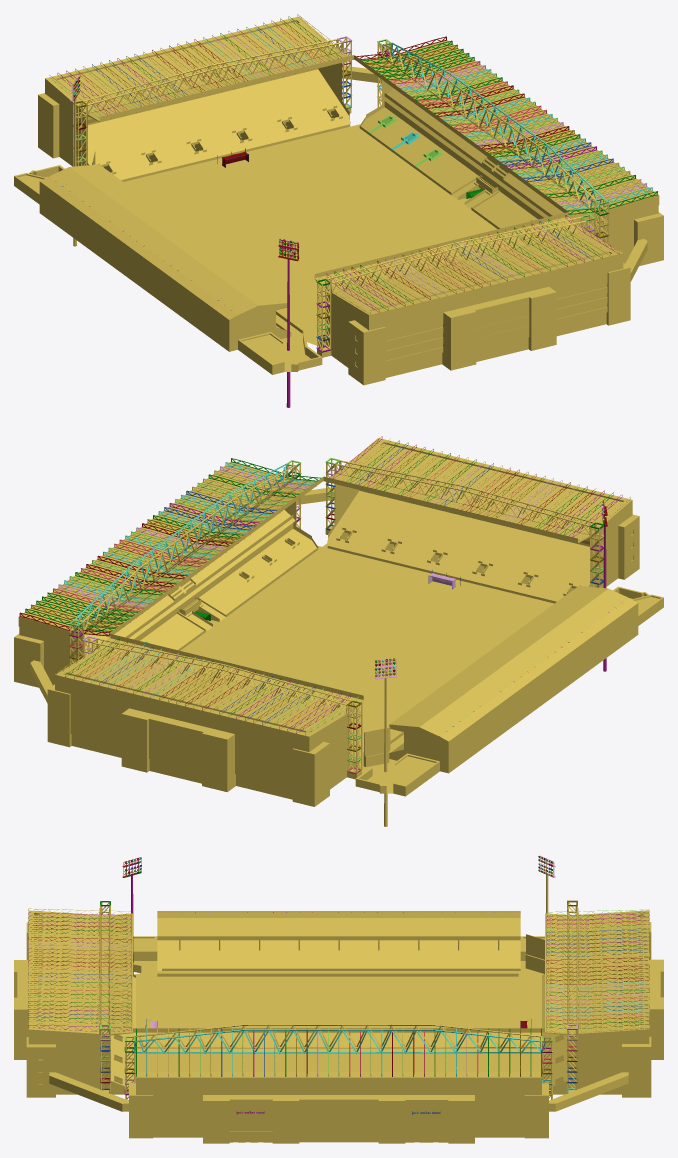
The model's file is stadium.obj.
3 views of the same model, one above another, from view 1: azimuth 30°, elevation 25°; view 2: azimuth 150°, elevation 25°; view 3: azimuth 270°, elevation 25° (orthographic). The views are drawn at different scales.
Parts seen in each view (by area): view 1: Layer0_001, Component_12_001, Component_12_003; view 2: Layer0_001, Component_12_001, Component_12_003; view 3: Layer0_001, Component_12_003, Component_12_001.
Boxes of the visible parts, <box> form: Layer0_001: <box>14,16,663,385</box>; Component_12_001: <box>380,44,595,211</box>; Component_12_003: <box>389,42,603,209</box>; Layer0_001: <box>14,438,663,806</box>; Component_12_001: <box>81,465,295,633</box>; Component_12_003: <box>72,463,287,630</box>; Layer0_001: <box>14,901,663,1143</box>; Component_12_003: <box>134,1029,545,1053</box>; Component_12_001: <box>134,1024,545,1048</box>.
Bounding box in the file's own units: 135913 × 50662 × 184942.
